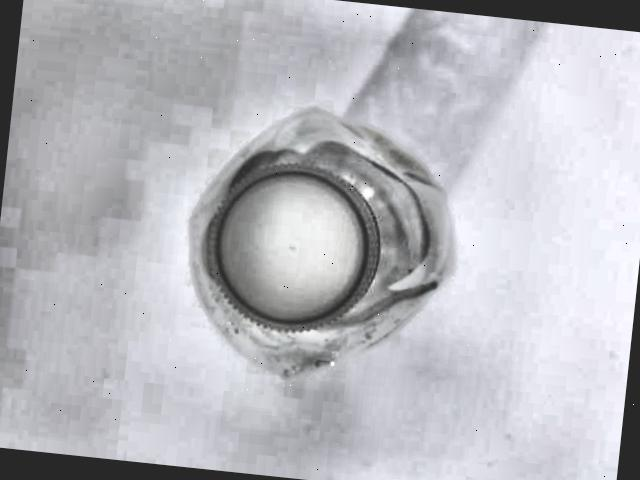Plastic: (164, 5, 499, 398)
